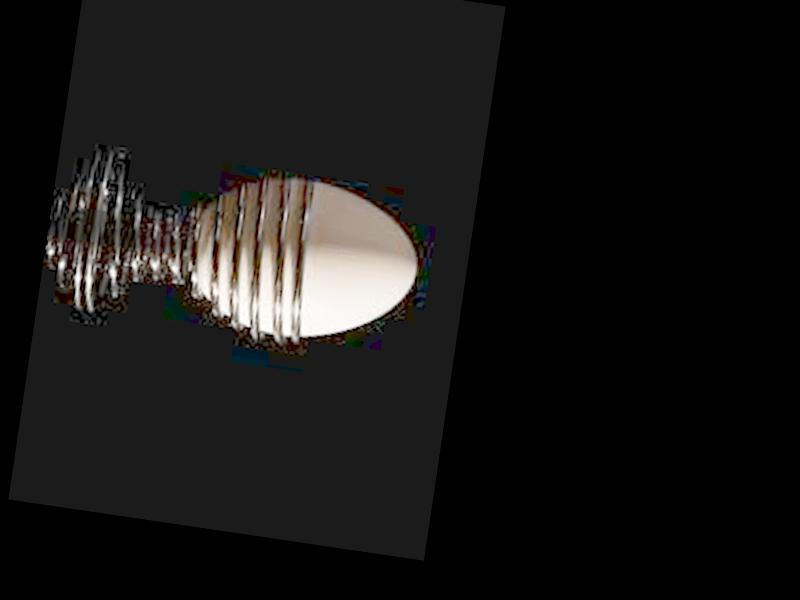Eggs: (185, 166, 428, 354)
